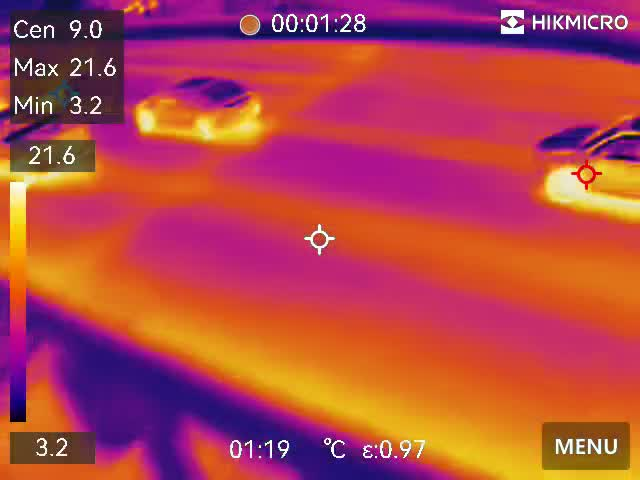smallCar: (133, 76, 273, 149)
